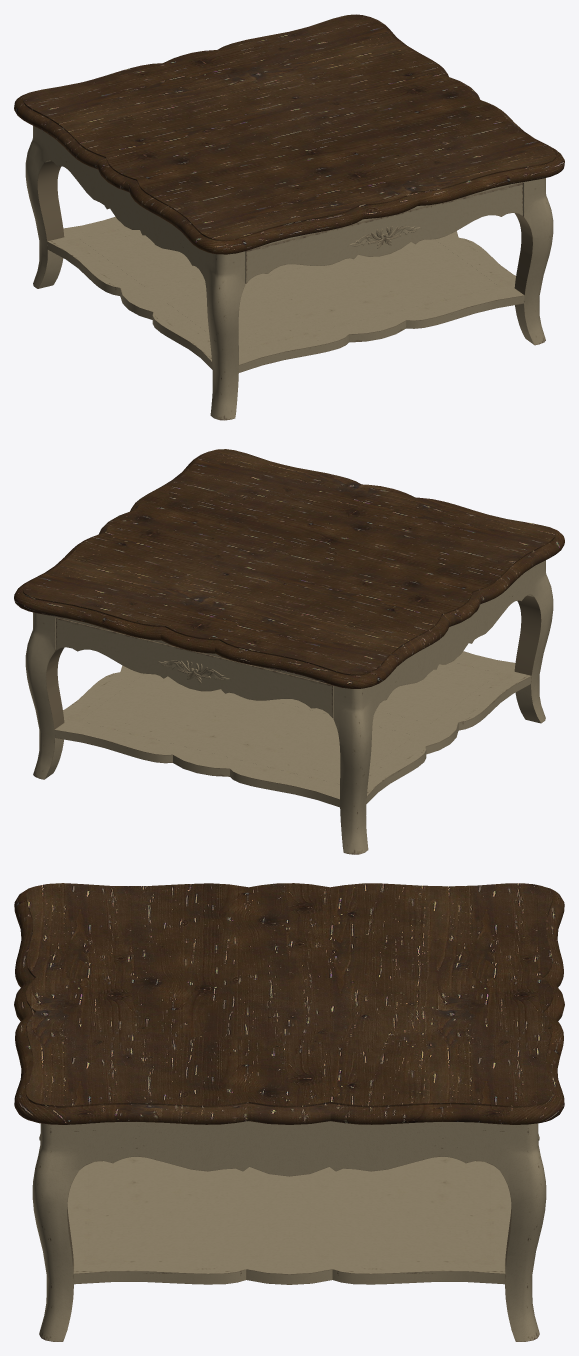
The model's file is example109.gltf.
3 views of the same model, one above another, from view 1: azimuth 30°, elevation 25°; view 2: azimuth 150°, elevation 25°; view 3: azimuth 270°, elevation 25° (orthographic). The views are drawn at different scales.
Bounding box in the file's own units: 92.97 × 45 × 92.97.
Materials: 2 (2 with a texture image).
